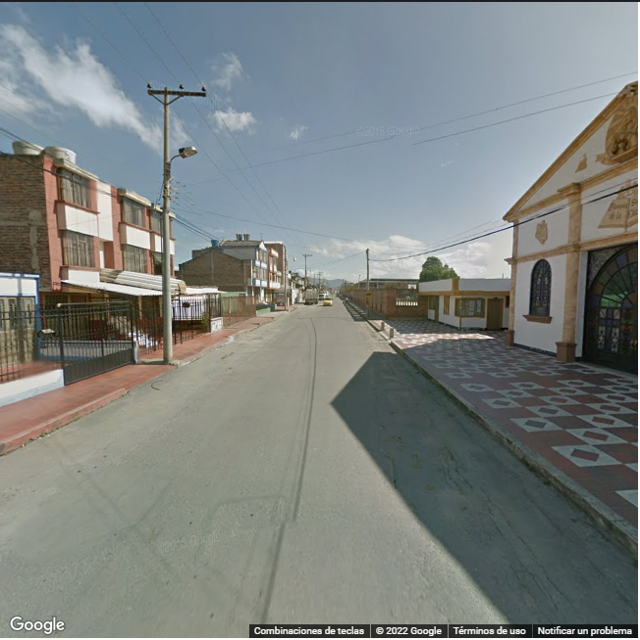D00: (493, 482, 571, 608), (487, 512, 557, 604), (439, 449, 465, 504), (389, 448, 399, 499)
